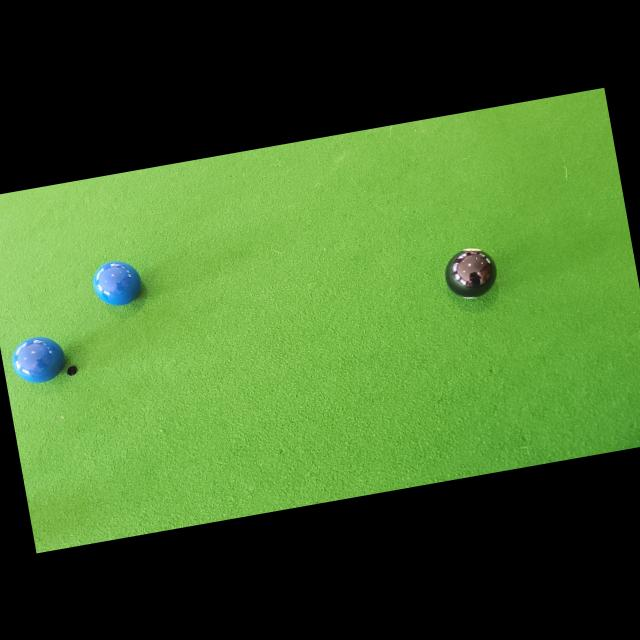Ball: (440, 243, 500, 303), (8, 332, 68, 387), (89, 256, 144, 310)
